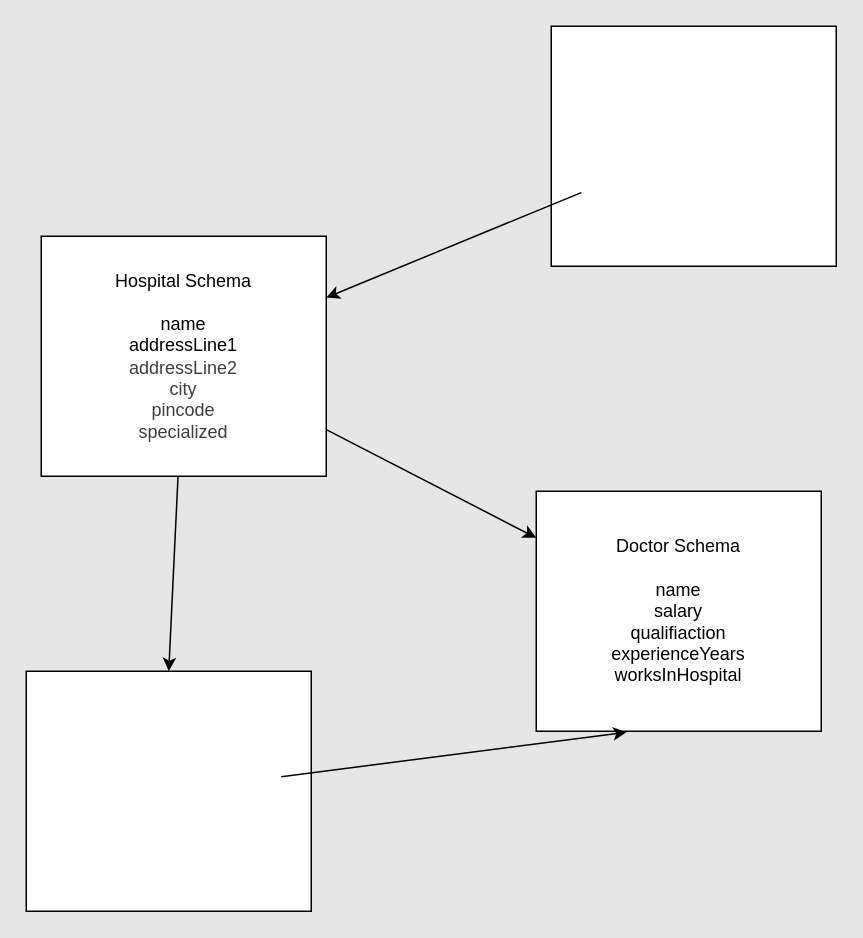
The diagram is 863 pixels wide and 938 high, and some of its shapes have lost their labels. Here are the shapes that lost their labels. From the top down, the centre of each, then its label:
At [693,145]: "Patient Schema name tests".
At [168,790]: "Patient Record Schema name diagonsedWith age address bloodGroup gender admitted".
